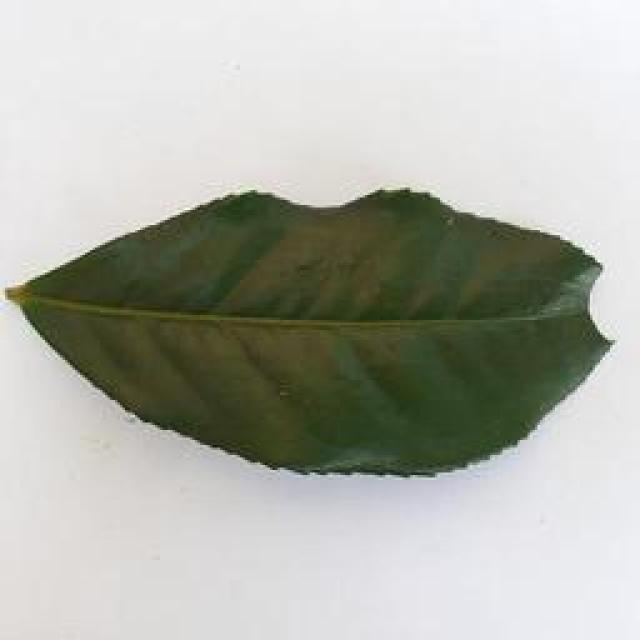Healthy: (2, 170, 628, 488)
